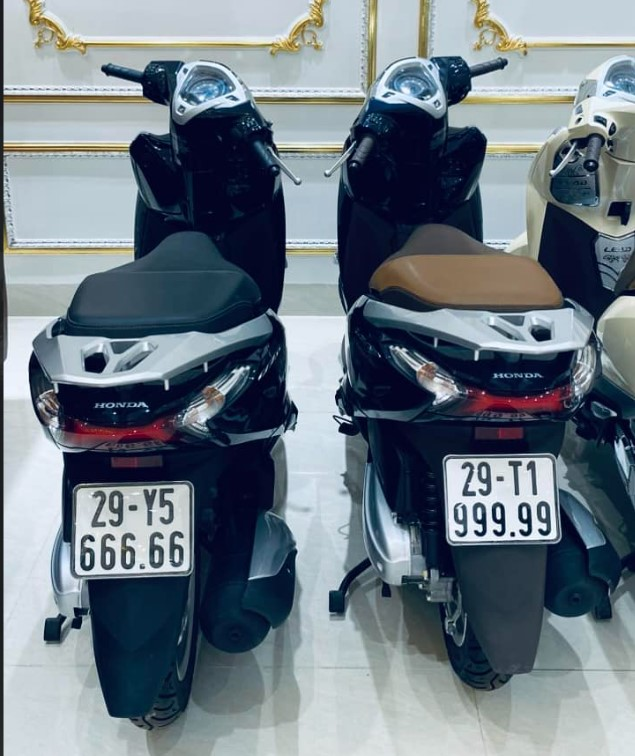bien_so: (67, 477, 200, 583), (439, 449, 568, 551)
